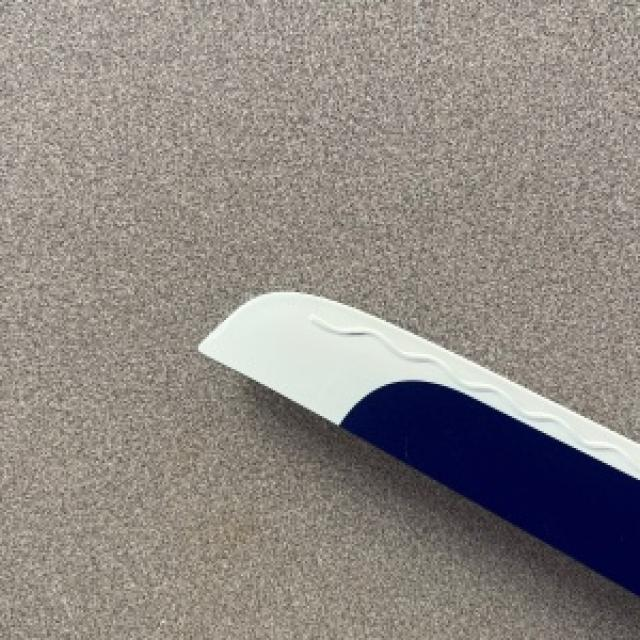healthy: (198, 294, 638, 593)
